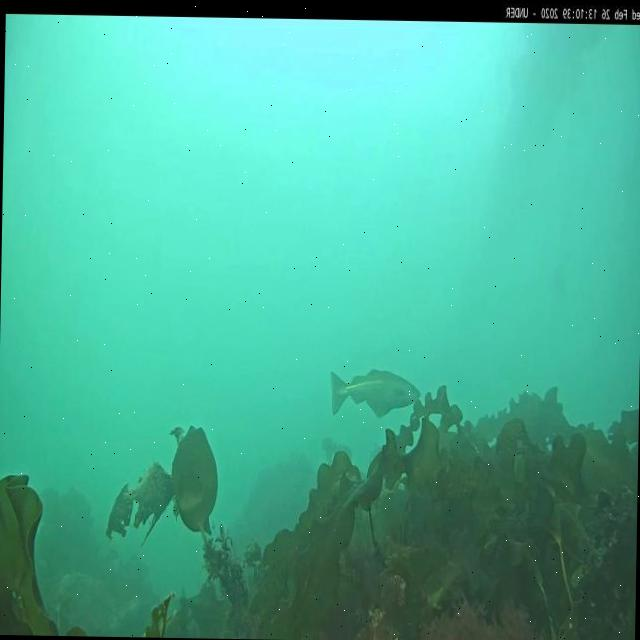fish: (328, 368, 421, 418)
